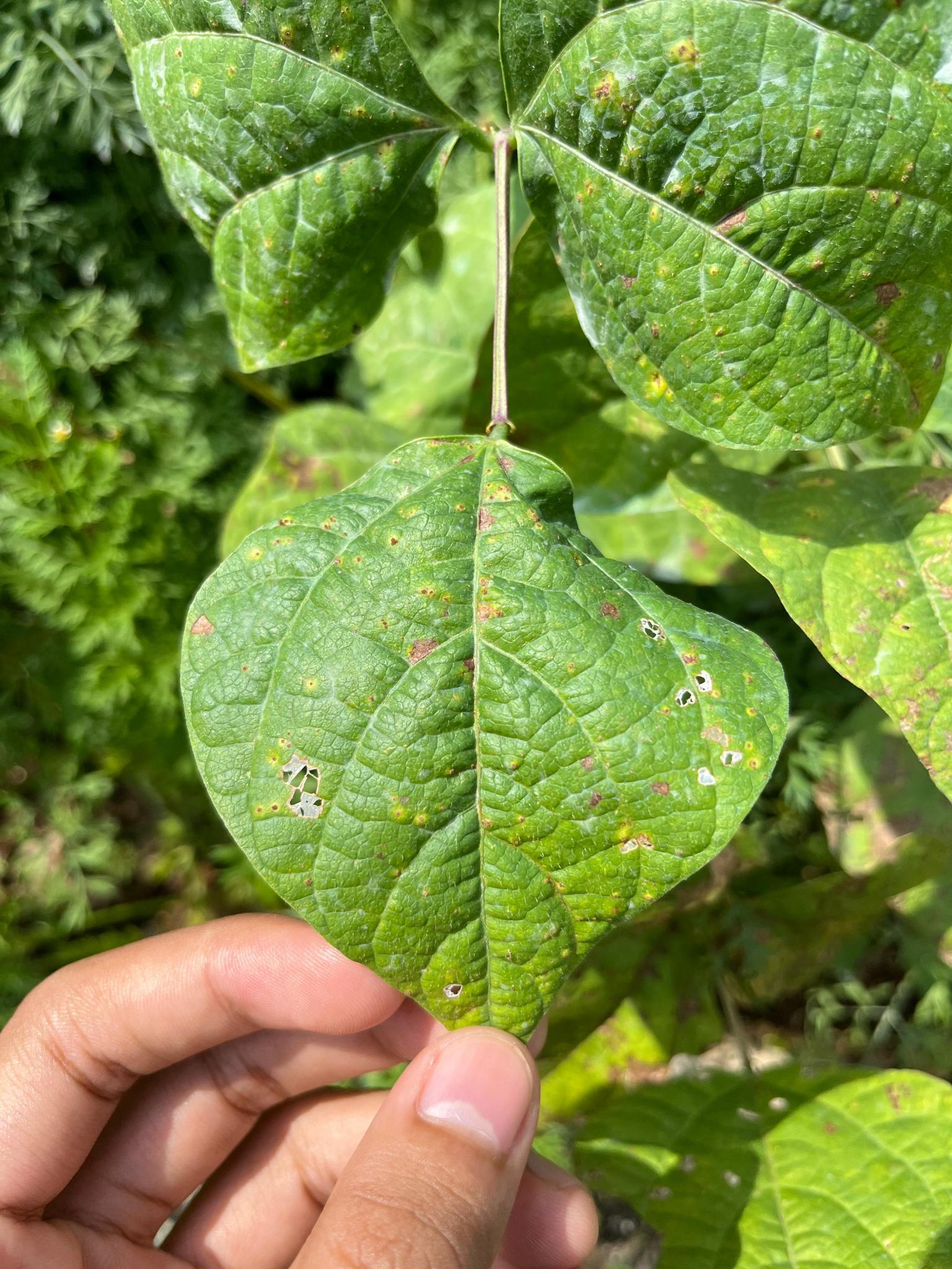hawar: (331, 469, 552, 679)
mozaik: (601, 580, 770, 820), (246, 698, 374, 881)
